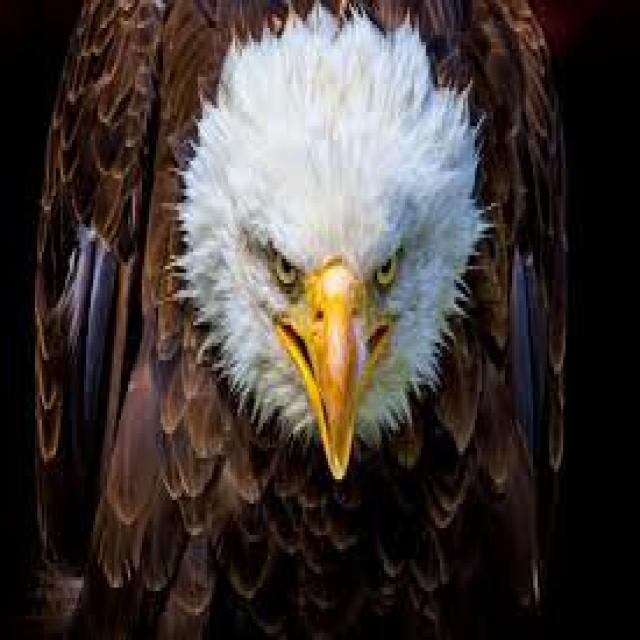eagle: (37, 0, 568, 637)
